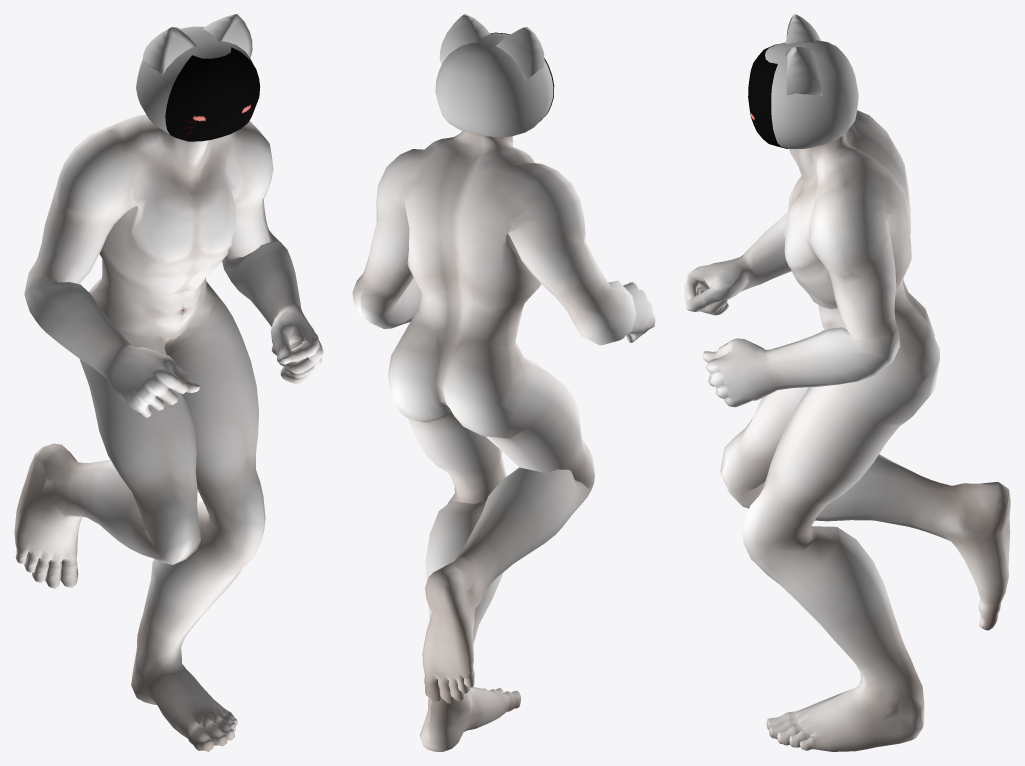
3 renders of one model, left to right at view 1: azimuth 30°, elevation 25°; view 2: azimuth 150°, elevation 25°; view 3: azimuth 270°, elevation 25°, orthographic. The views are drawn at different scales.
Parts seen in each view (by area): view 1: Muscle_Body, ______?001, Cat_Head; view 2: Muscle_Body, Cat_Head; view 3: Muscle_Body, Cat_Head, ______?001.
Part boxes in pixels (box(x1,y1,x2,y2)): Muscle_Body: box(14, 114, 323, 751); ______?001: box(165, 47, 260, 141); Cat_Head: box(136, 14, 253, 134); Muscle_Body: box(352, 131, 655, 751); Cat_Head: box(435, 14, 553, 137); Muscle_Body: box(684, 110, 1010, 751); Cat_Head: box(765, 14, 858, 148); ______?001: box(748, 44, 787, 148).
Bounding box in the file's own units: 10.31 × 26.91 × 11.27.
